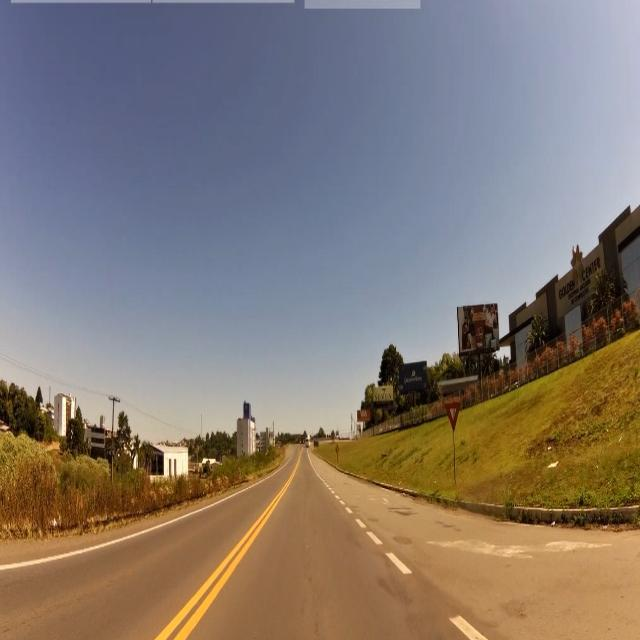R-2: (446, 401, 462, 431)
